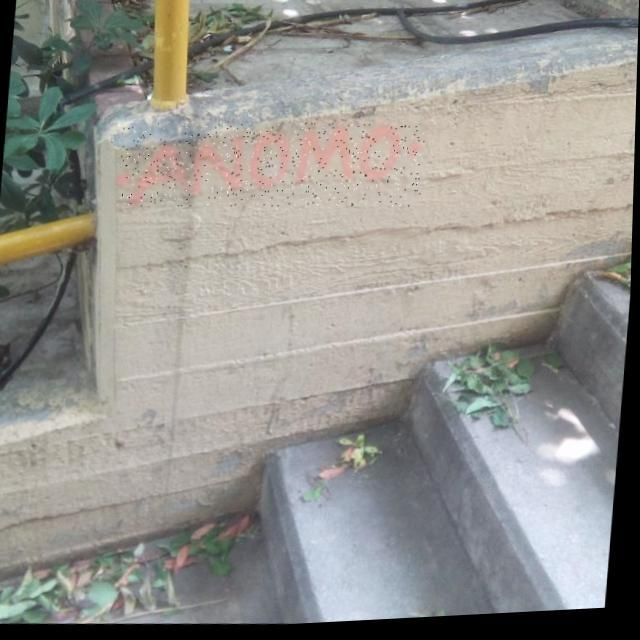-: (119, 112, 428, 224)
